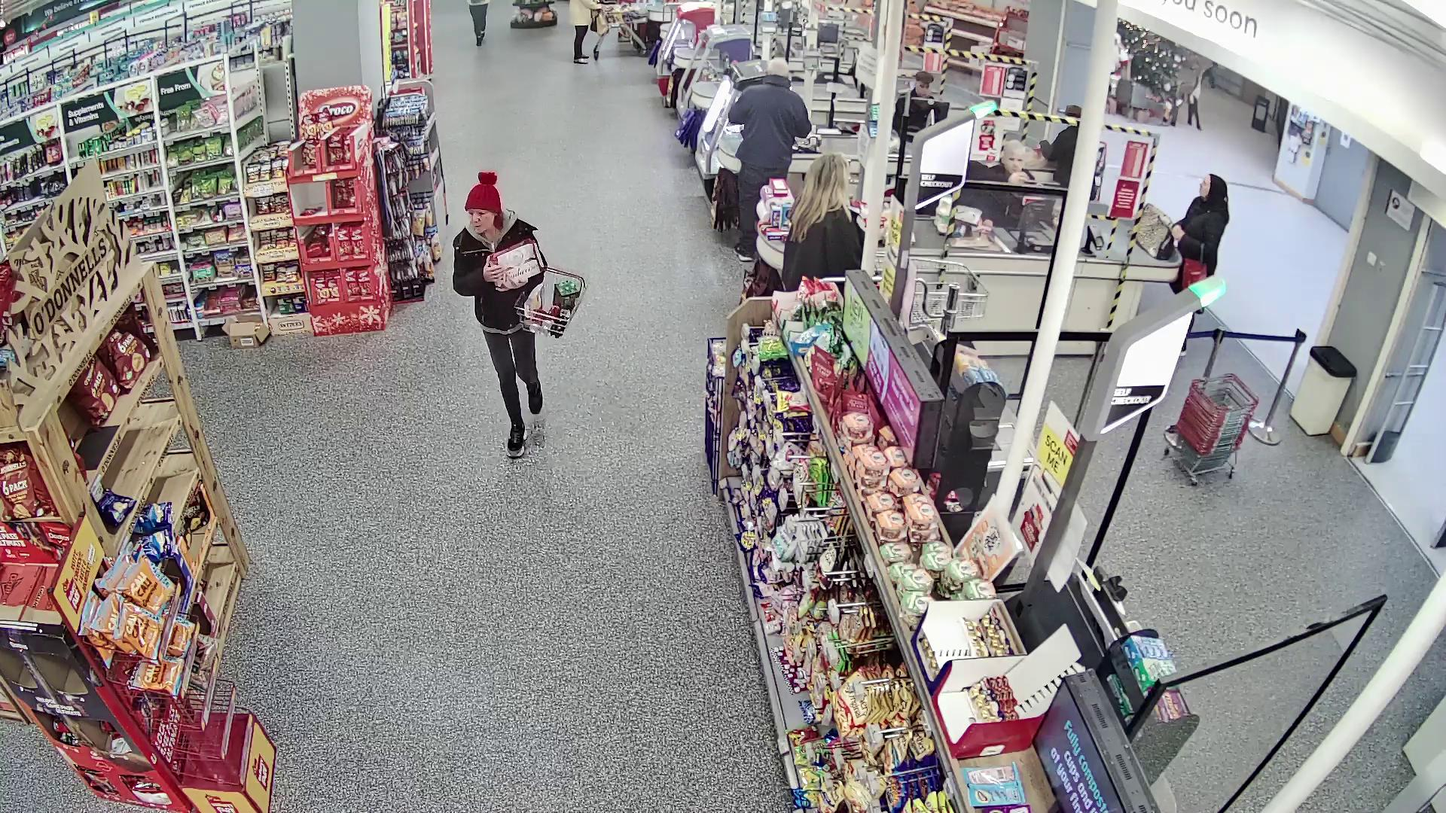carrying-item: (488, 237, 543, 293)
filled-basket: (515, 262, 589, 339)
person: (451, 171, 550, 460)
person-with-basket-trolly-and-carrying-item: (451, 170, 589, 462)
